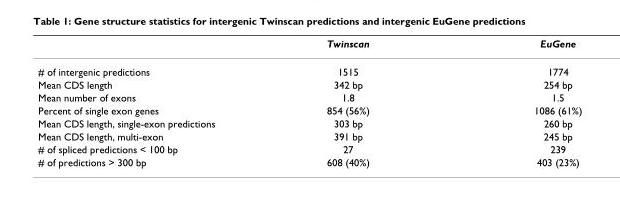table: (37, 37, 581, 167)
table column: (37, 37, 270, 167), (270, 37, 451, 167), (451, 37, 581, 167)
table column header: (37, 37, 581, 57)
table row: (37, 37, 581, 57), (37, 57, 581, 77), (37, 77, 581, 90), (37, 90, 581, 103), (37, 103, 581, 116), (37, 116, 581, 129), (37, 129, 581, 142), (37, 142, 581, 155), (37, 155, 581, 167)
